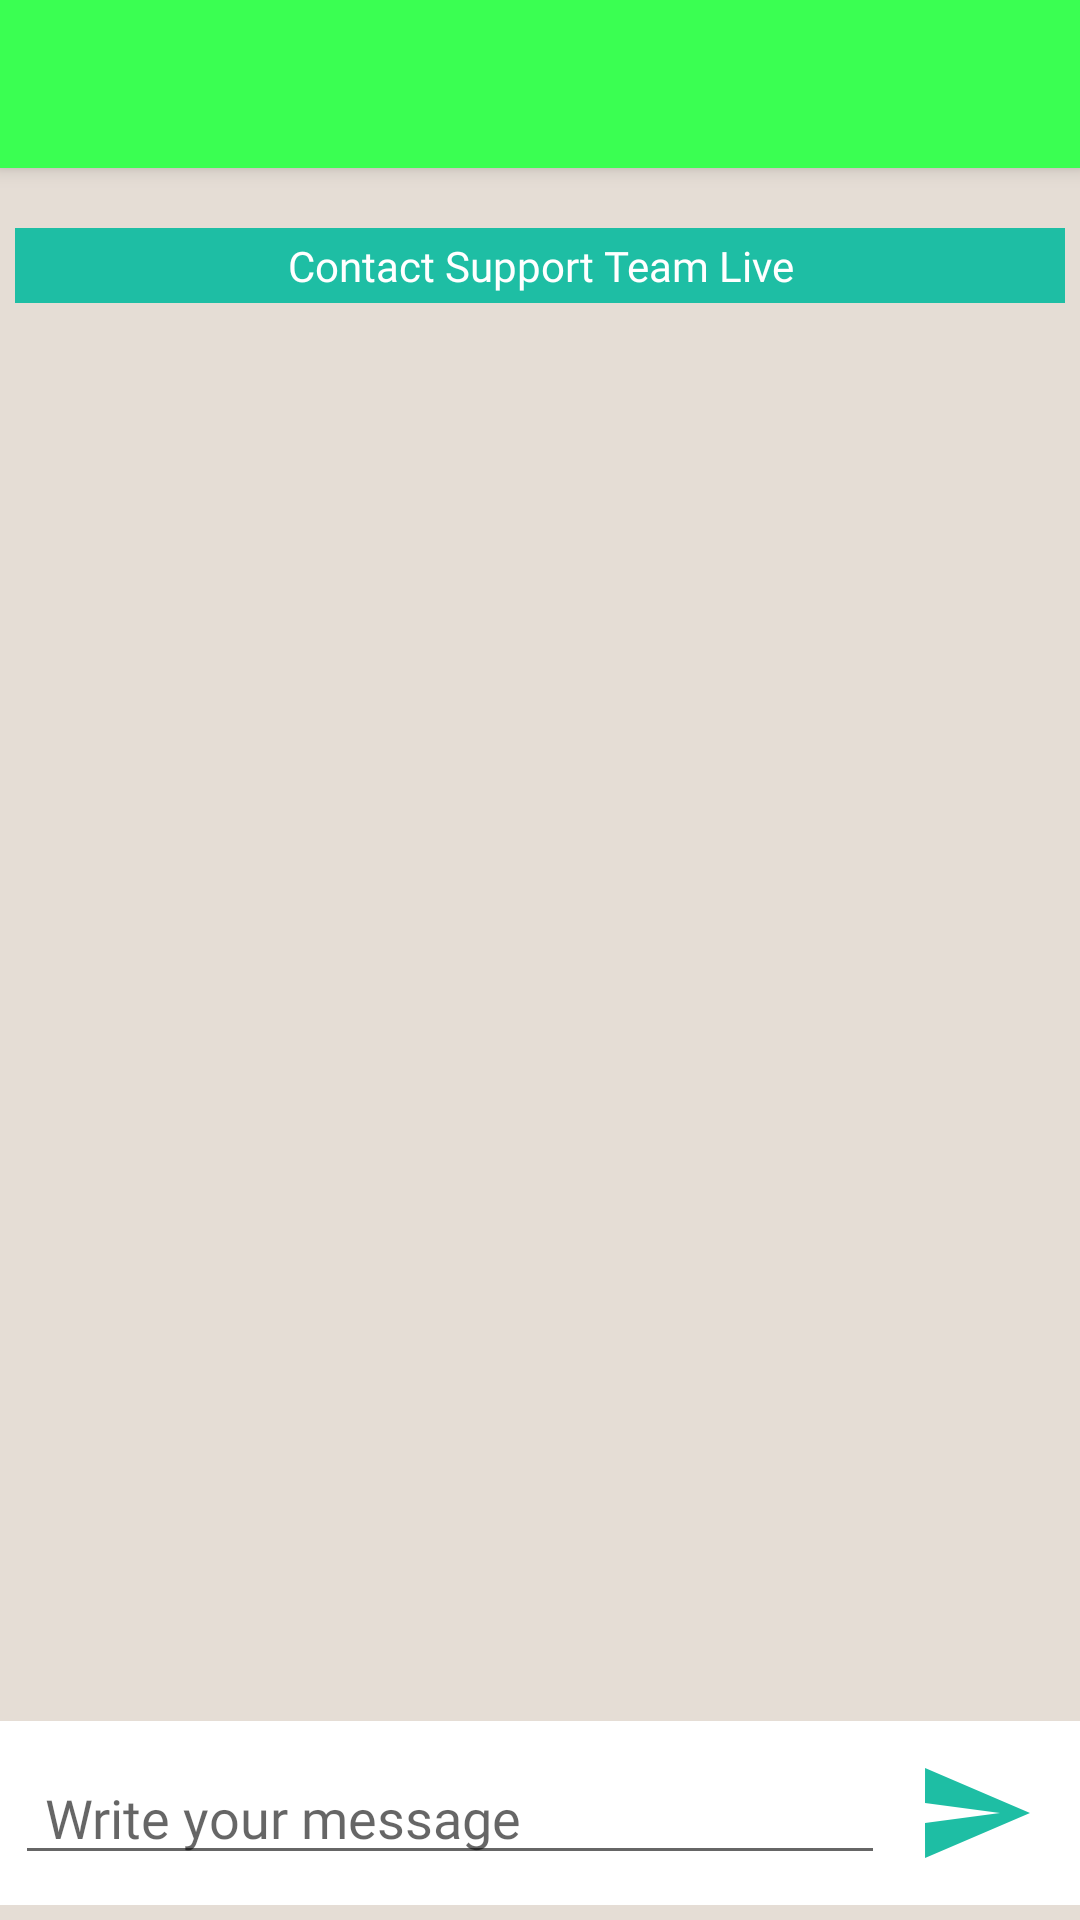

Screen size 1080 × 1920. Icon name, then its box in pixels as (x1, y1, x2, y2):
send: (925, 1768, 1030, 1858)
